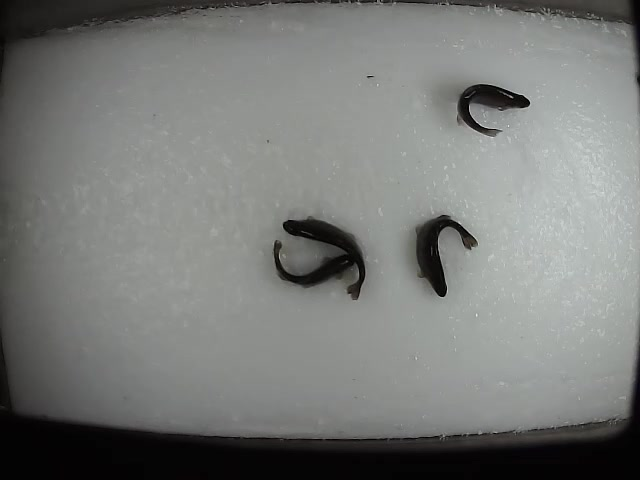fish: (282, 217, 369, 302), (415, 212, 480, 297), (271, 235, 359, 289), (454, 82, 532, 140)
